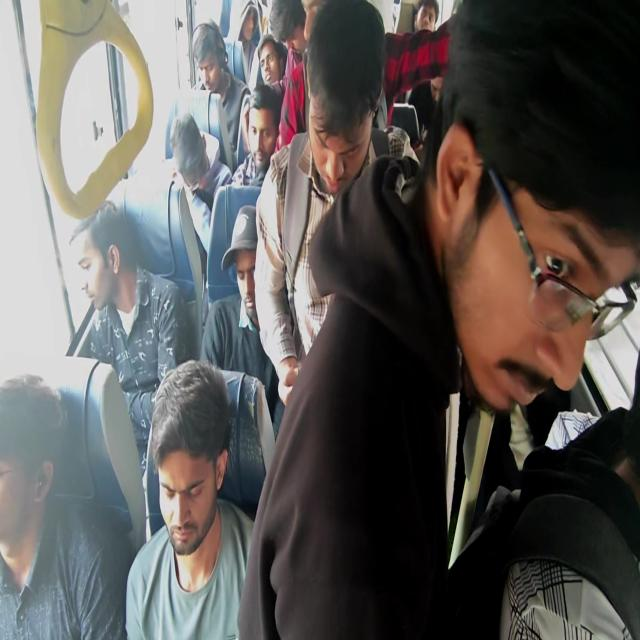person: (457, 168, 615, 424), (301, 3, 385, 205), (149, 409, 222, 594), (381, 1, 454, 136), (207, 184, 262, 312), (0, 374, 67, 467), (231, 86, 282, 187), (71, 202, 136, 273), (258, 33, 288, 86), (301, 0, 328, 47), (224, 40, 250, 86), (197, 44, 223, 90), (415, 0, 439, 32)
